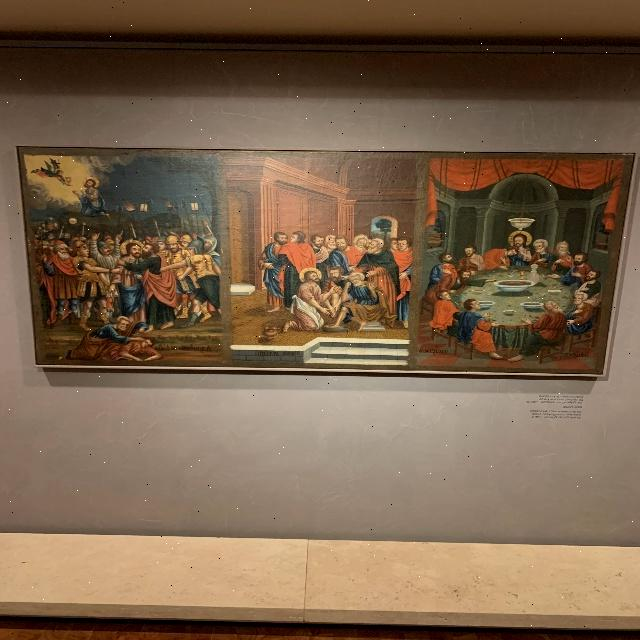aura: (508, 229, 536, 247), (119, 240, 147, 258)
christ: (117, 243, 148, 324), (507, 230, 535, 265)
